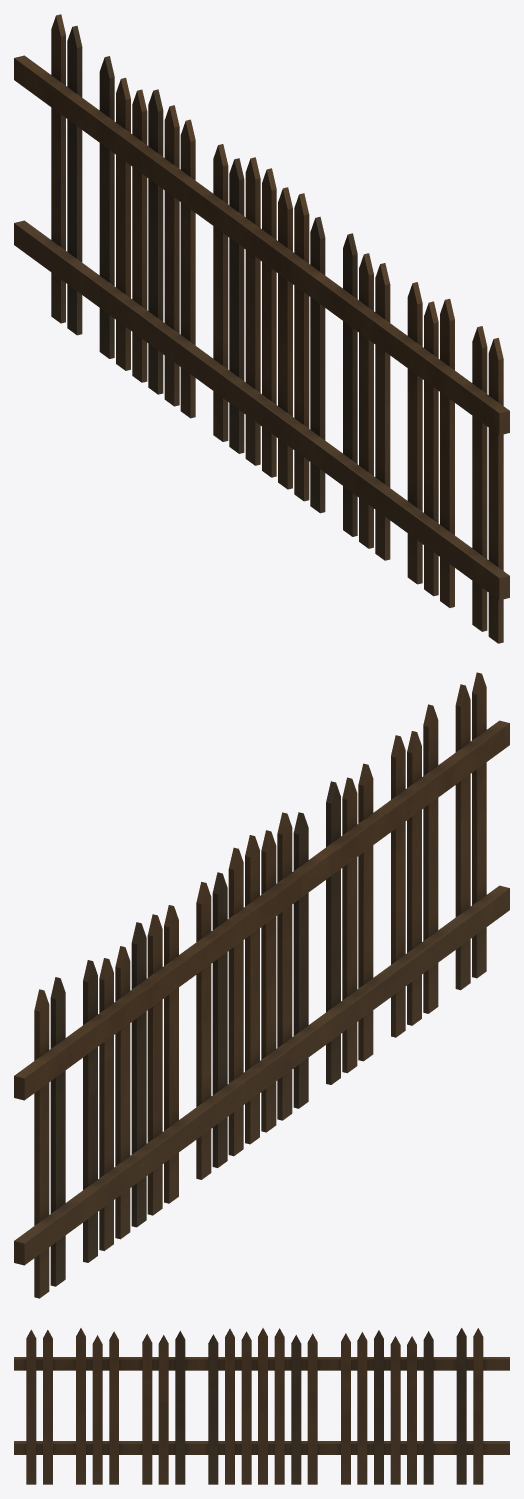
File: wood-segment.glb
The picture shows the model from 3 angles, top to bottom: view 1: azimuth 30°, elevation 25°; view 2: azimuth 150°, elevation 25°; view 3: azimuth 270°, elevation 25°; orthographic projection. The views are drawn at different scales.
Visible parts, largest first — view 1: hull; view 2: hull; view 3: hull.
Part boxes in pixels (box(x1,y1,x2,y2)): hull: box(14, 14, 509, 643); hull: box(14, 672, 509, 1298); hull: box(14, 1328, 509, 1484).
Bounding box in the file's own units: 0.0775 × 1.39 × 4.
Materials: 1 (1 with a texture image).
